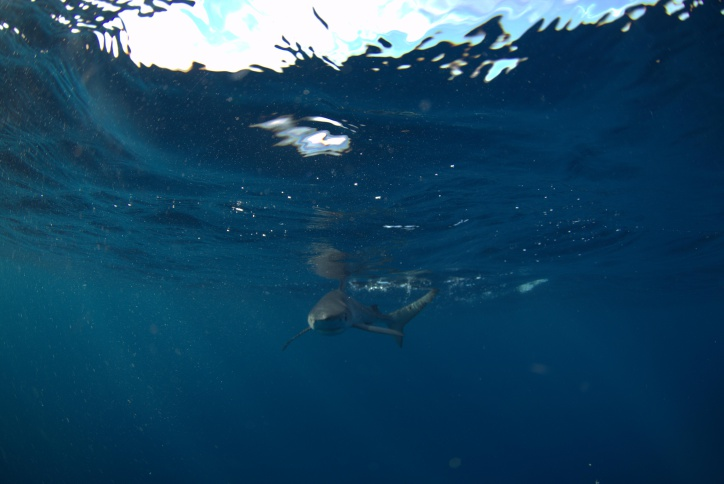Azul: (260, 260, 455, 381)
